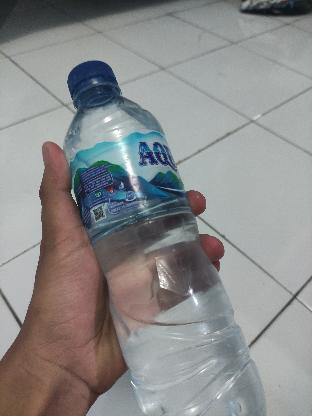Plastic Bottle: (64, 58, 276, 416)
